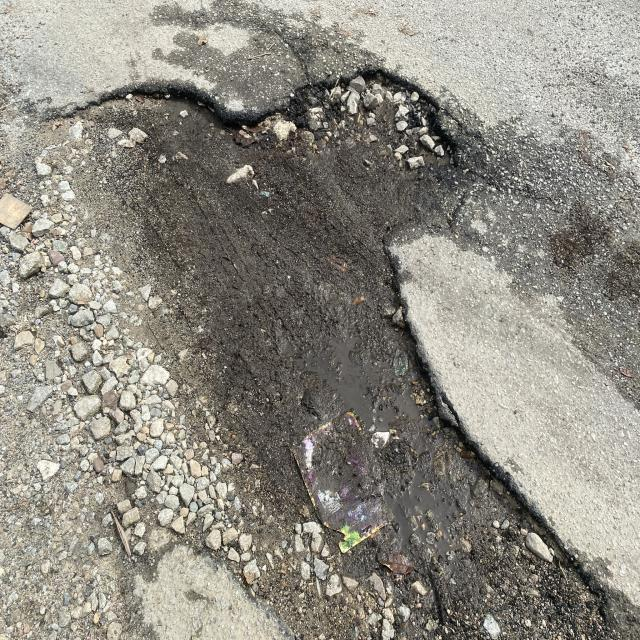pothole: (59, 21, 488, 233), (358, 217, 566, 551)
